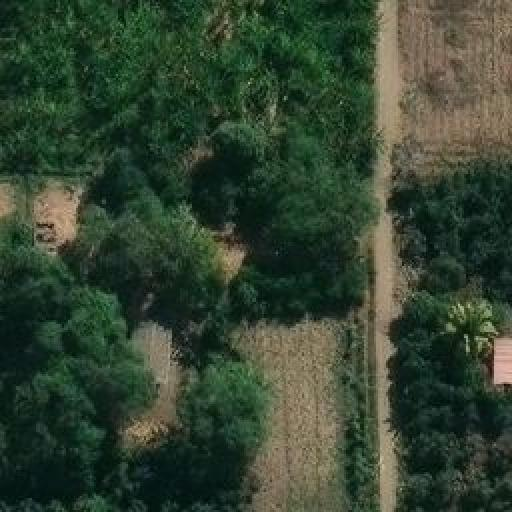manzanas: (484, 332, 510, 389)
